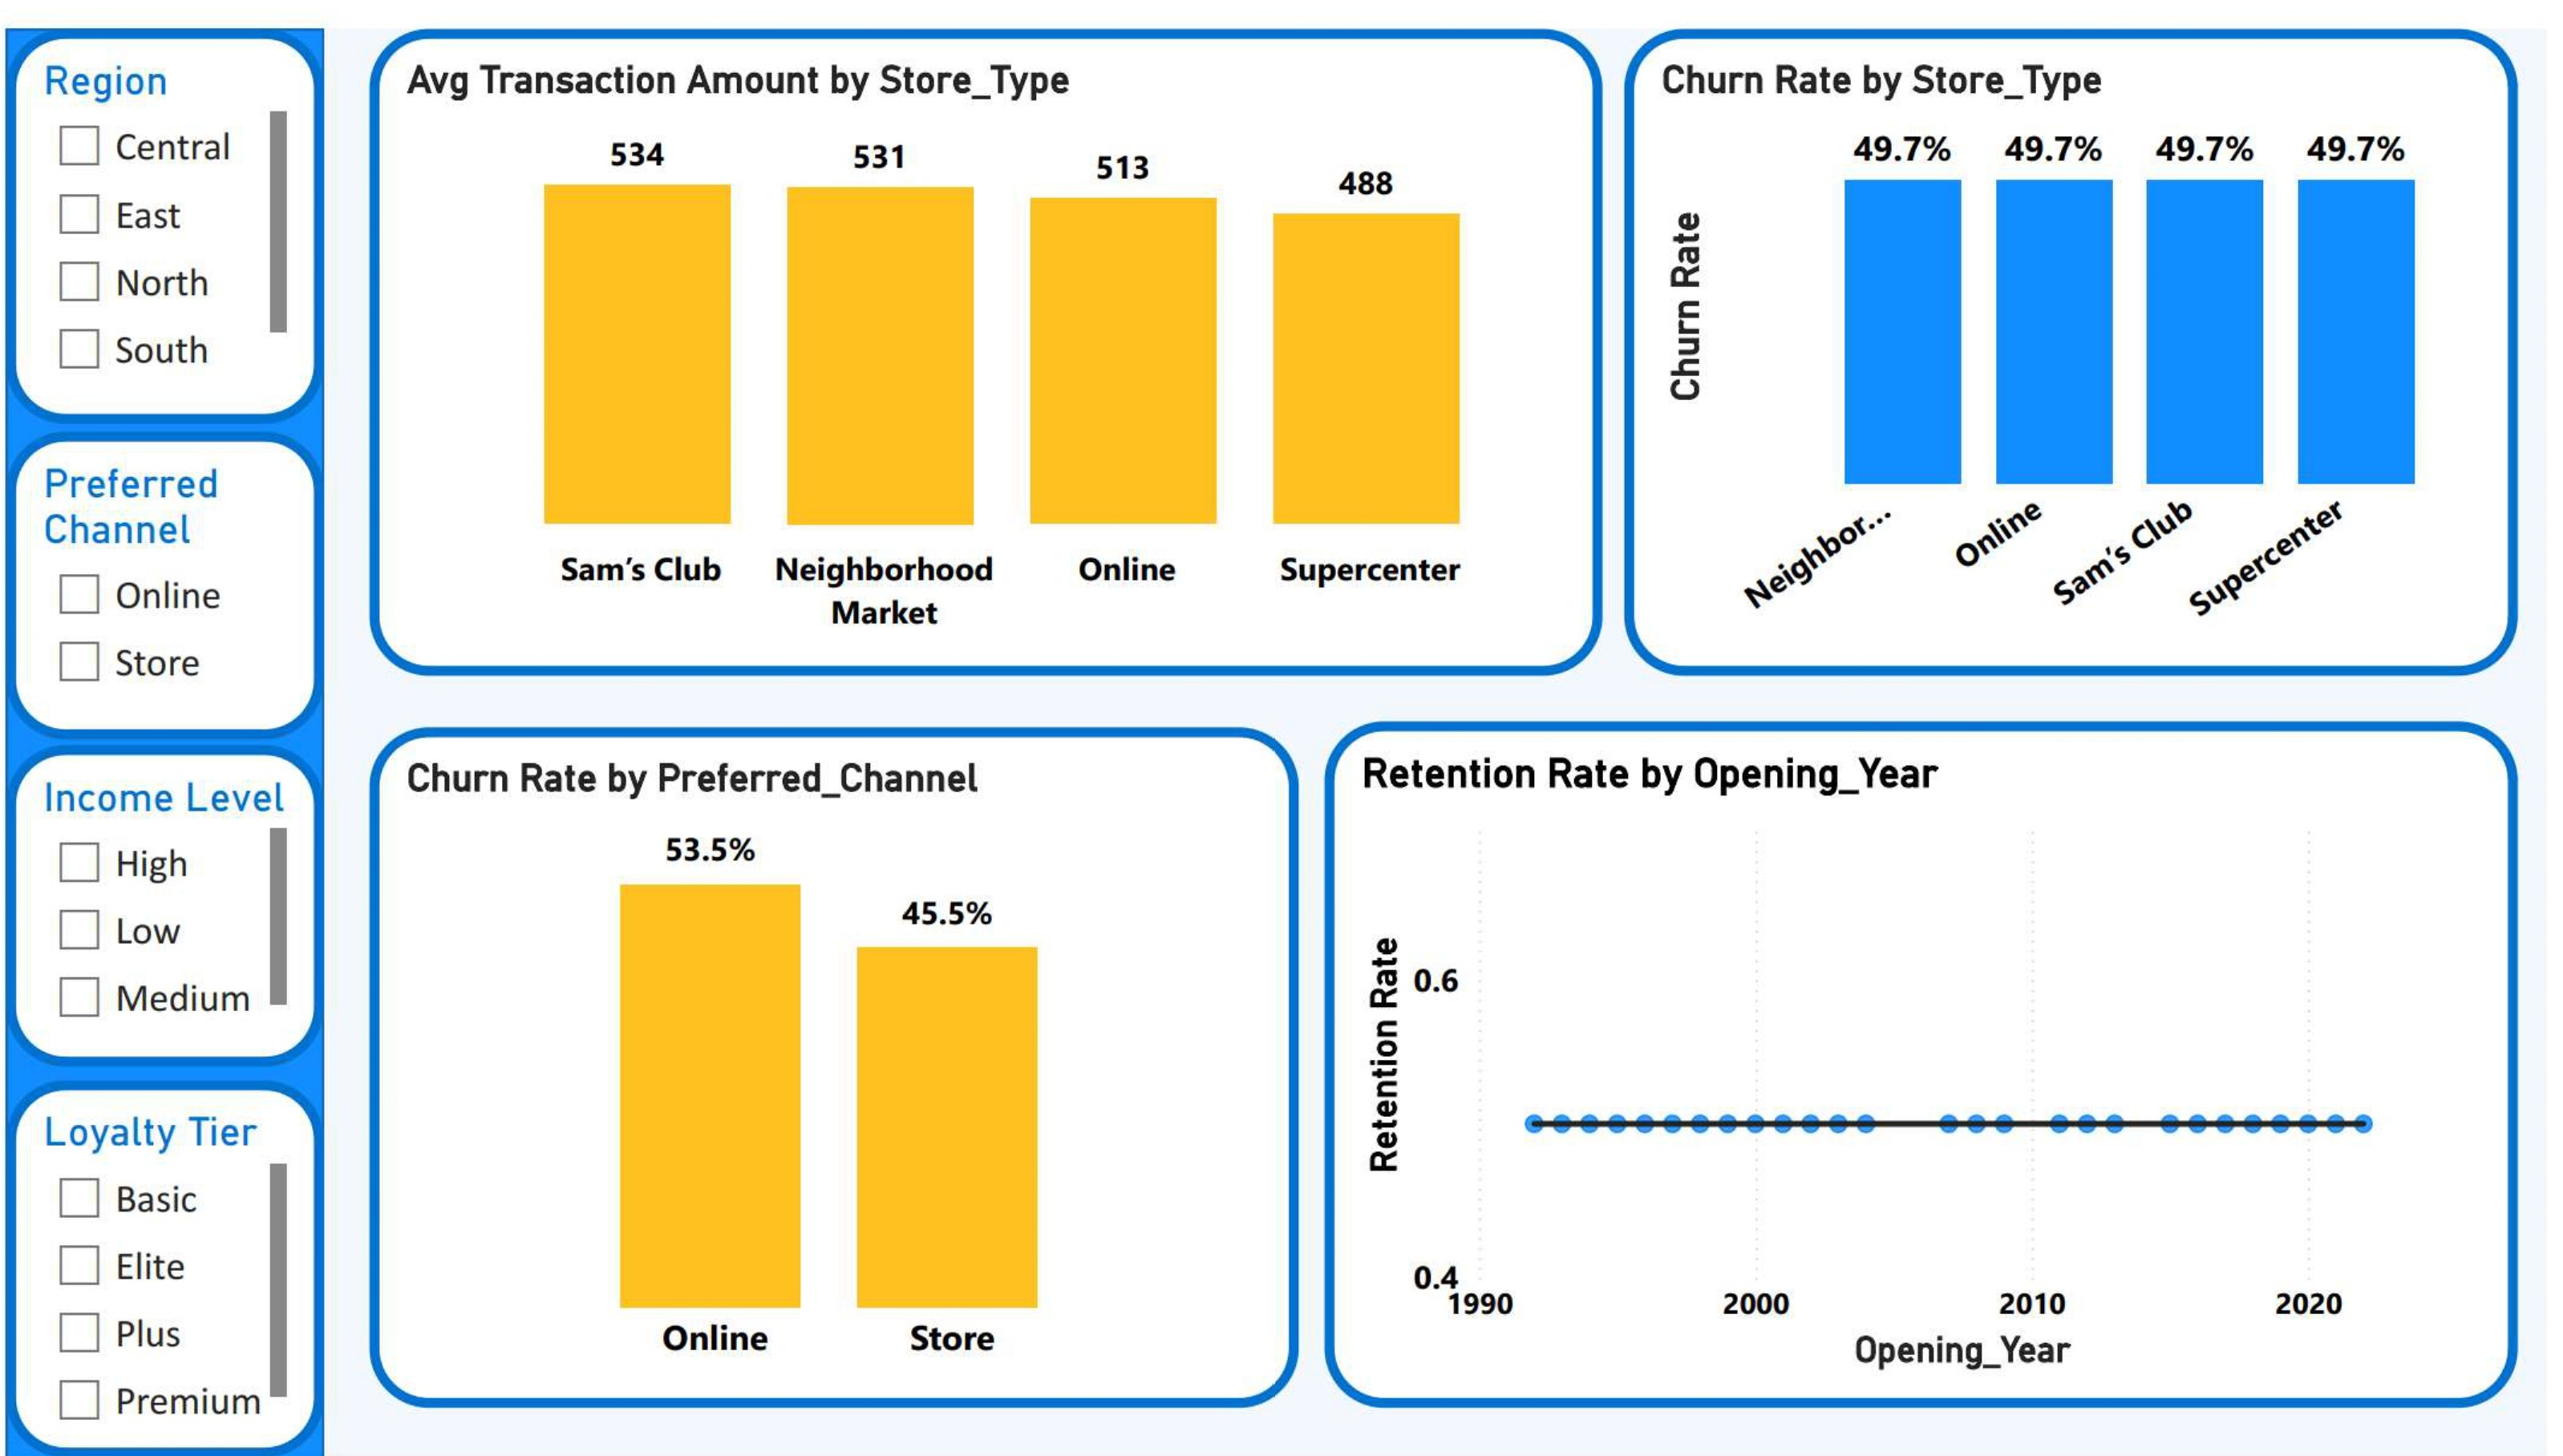

What the dashboard file says about the page in this screenshot:
{"tool":"powerbi","page":{"name":"Store/Channel Insights","canvas":[1280,720],"ordinal":2},"visuals":[{"type":"clusteredColumnChart","title":"Avg Transaction Amount by Store_Type","fields":{"Y":["Avg(Customer_Transactions.Amount)"],"Category":["Customer_Transactions.Store_Type"]},"box":[183.3,0,621.1,325.7],"z":0},{"type":"columnChart","fields":{"Category":["Customer_Transactions.Store_Type"],"Y":["Measures (2).Churn Rate"]},"box":[815.2,0,450.1,326.1],"z":1000},{"type":"lineStackedColumnComboChart","fields":{"Y":["Measures (2).Churn Rate"],"Category":["Customer_Demographics.Preferred_Channel"]},"box":[183.2,352,467.5,343.4],"z":2000},{"type":"scatterChart","fields":{"X":["Customer_Transactions.Opening_Year"],"Y":["Measures (2).Retention Rate"]},"box":[663.7,349.1,601.6,346.3],"z":3000},{"type":"shape","box":[0,0,160.2,720.8],"z":4000},{"type":"slicer","title":"Region","fields":{"Values":["Customer_Demographics.Region"]},"box":[0,0,160.2,199.3],"z":5000},{"type":"slicer","title":"Preferred Channel","fields":{"Values":["Customer_Demographics.Preferred_Channel"]},"box":[0,202.9,160.2,154.8],"z":6000},{"type":"slicer","title":"Income Level","fields":{"Values":["Customer_Demographics.Income_Level"]},"box":[0,361.3,160.2,162],"z":7000},{"type":"slicer","title":"Loyalty Tier","fields":{"Values":["Loyalty_Program.Loyalty_Tier"]},"box":[0,529.6,160.2,190.4],"z":8000}]}

Visuals, with their boxes in screenshot pixels (x1, y1, x2, y2), scaled from the page's 1280x720 canvas onto the 2563x1456 screenshot:
"Avg Transaction Amount by Store_Type" clusteredColumnChart: (367,0,1610,658)
columnChart - Customer_Transactions.Store_Type x Measures (2).Churn Rate: (1632,0,2533,659)
lineStackedColumnComboChart - Measures (2).Churn Rate x Customer_Demographics.Preferred_Channel: (366,712,1303,1406)
scatterChart - Customer_Transactions.Opening_Year x Measures (2).Retention Rate: (1329,706,2533,1406)
shape: (0,0,321,1455)
"Region" slicer: (0,0,321,403)
"Preferred Channel" slicer: (0,411,321,723)
"Income Level" slicer: (0,730,321,1058)
"Loyalty Tier" slicer: (0,1071,321,1455)
